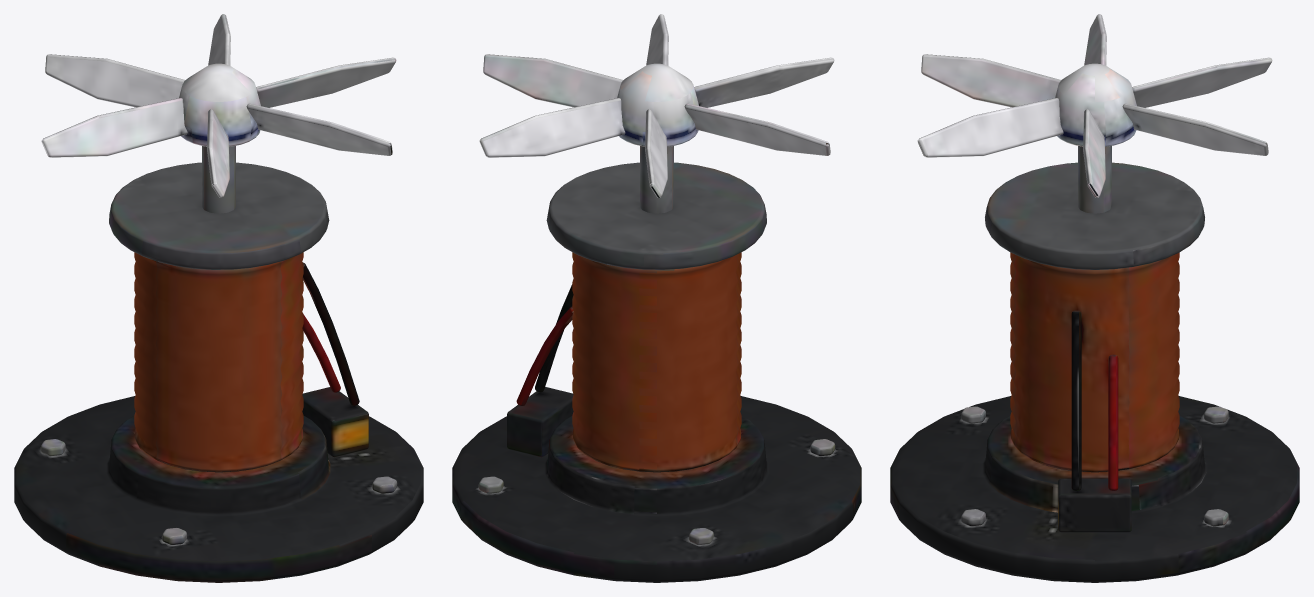
File: terraformer_part.glb
3 renders of one model, left to right at view 1: azimuth 30°, elevation 25°; view 2: azimuth 150°, elevation 25°; view 3: azimuth 270°, elevation 25°, orthographic.
Parts seen in each view (by area): view 1: terraformer_part; view 2: terraformer_part; view 3: terraformer_part.
Boxes of the visible parts, box(x1,y1,x2,y2) form: terraformer_part: box(14, 14, 423, 582); terraformer_part: box(452, 14, 861, 582); terraformer_part: box(890, 14, 1299, 582).
Size of the model in its own units: 0.336 by 0.388 by 0.3342.
1 material, 1 textured.
